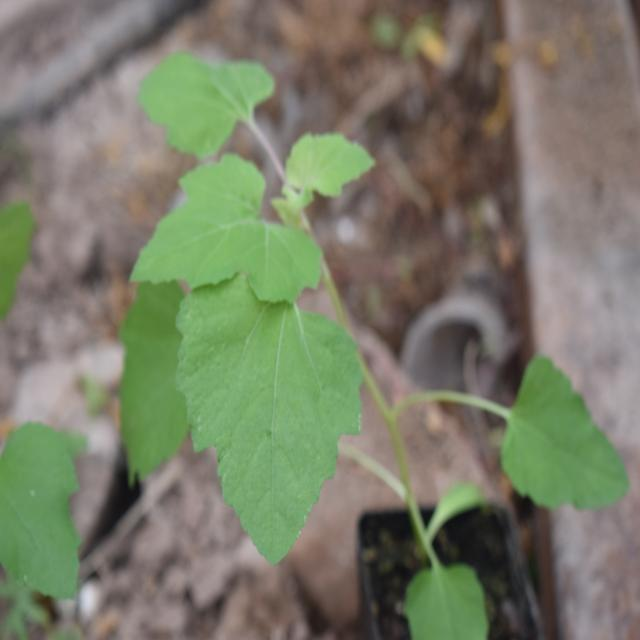cocklebur: (101, 69, 615, 538)
